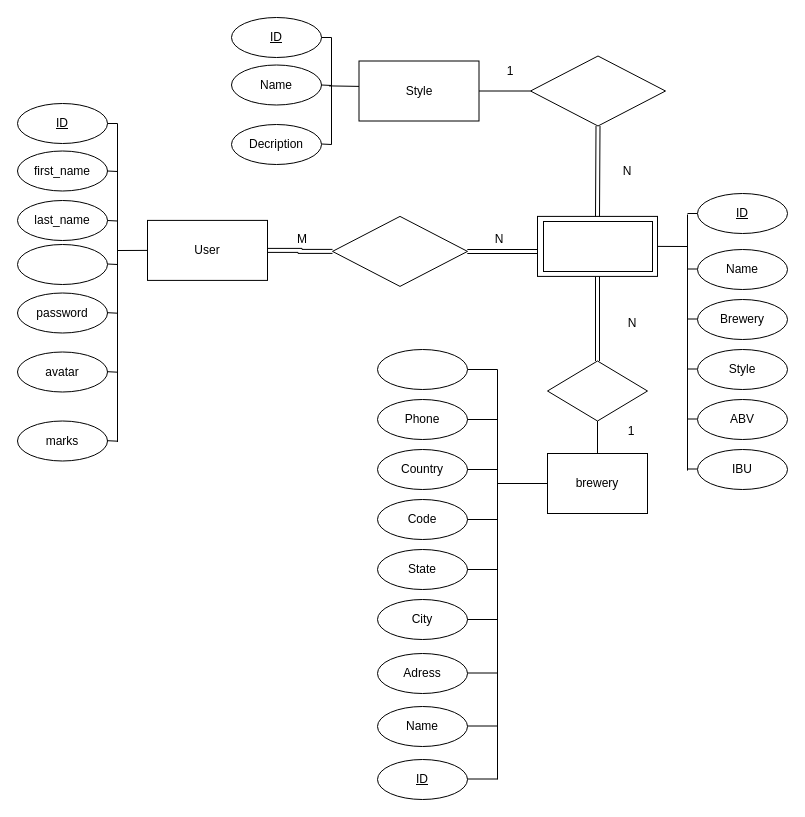
The diagram is 805 pixels wide and 817 high, and some of its shapes have lost their labels. The box of each missing label's shape, as (x1, y1, x2, y2) in pixels:
Beer: (536, 215, 658, 276)
describe: (530, 55, 666, 126)
email: (16, 244, 108, 284)
produce: (546, 360, 648, 421)
rate: (332, 215, 468, 286)
Website: (376, 348, 468, 390)
